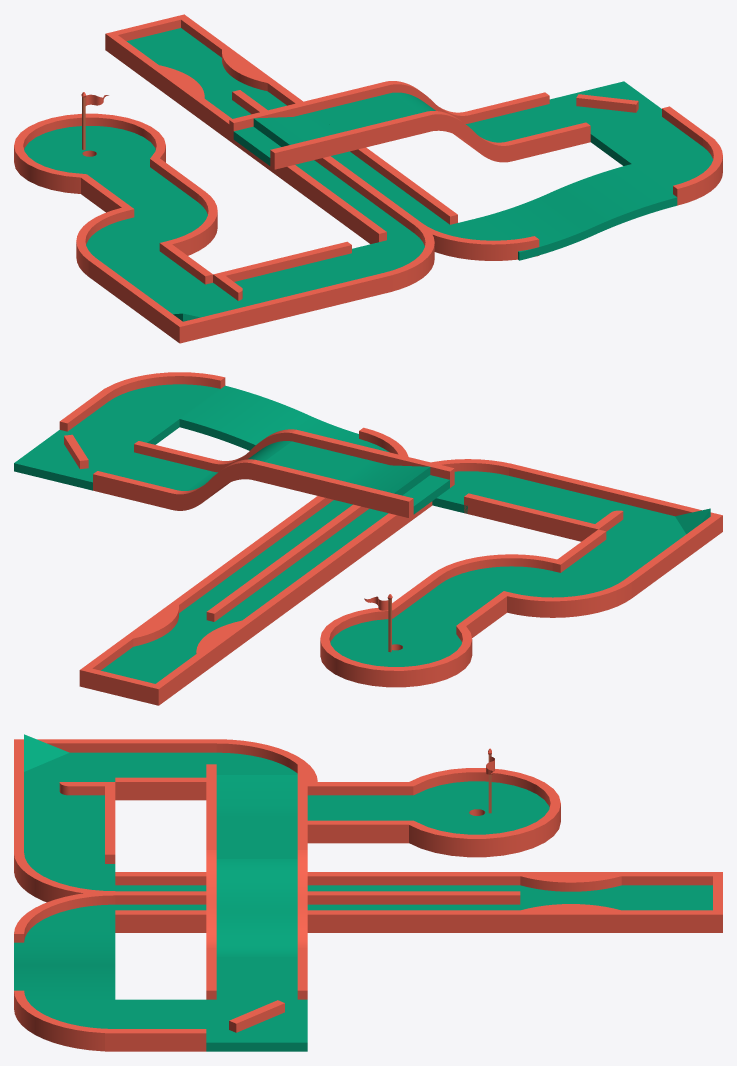
Rendered from Level11.fbx.
3 views of the same model, one above another, from view 1: azimuth 30°, elevation 25°; view 2: azimuth 150°, elevation 25°; view 3: azimuth 270°, elevation 25° (orthographic). The views are drawn at different scales.
Parts seen in each view (by area): view 1: straight (×5), bend_open (×5), straight_mid (×4), slope_center_smoothA_long, end_roundHoleLarge, straight_slope, end, corner_hill, straight_gap, straight_narrowRound, side, open_diagonal (+1 smaller); view 2: straight (×5), straight_mid (×4), bend_open (×5), end_roundHoleLarge, slope_center_smoothA_long, straight_slope, end, corner_hill, straight_gap, straight_narrowRound, open_diagonal, side (+1 smaller); view 3: straight (×5), straight_mid (×4), bend_open (×4), end_roundHoleLarge, slope_smoothC, slope_center_smoothA_long, end, straight_narrowRound, open_diagonal, side, corner_hill, straight_slope (+1 smaller).
Part boxes in pixels (x1,y1,x2,y2): straight (×5): [81, 81, 590, 310]; bend_open (×5): [76, 137, 722, 291]; straight_mid (×4): [196, 81, 457, 244]; slope_center_smoothA_long: [474, 164, 677, 260]; end_roundHoleLarge: [14, 113, 165, 193]; straight_slope: [229, 100, 353, 169]; end: [105, 14, 229, 83]; corner_hill: [134, 283, 258, 343]; straight_gap: [213, 255, 336, 323]; straight_narrowRound: [151, 48, 275, 116]; side: [590, 106, 714, 167]; open_diagonal: [549, 81, 661, 133]; straight (×5): [93, 429, 677, 637]; straight_mid (×4): [171, 496, 432, 638]; bend_open (×5): [101, 372, 631, 617]; end_roundHoleLarge: [320, 608, 472, 687]; slope_center_smoothA_long: [179, 385, 376, 450]; straight_slope: [330, 449, 454, 517]; end: [79, 636, 204, 705]; corner_hill: [606, 496, 722, 564]; straight_gap: [519, 477, 643, 541]; straight_narrowRound: [126, 603, 249, 671]; open_diagonal: [14, 430, 133, 490]; side: [59, 388, 183, 447]; straight (×5): [14, 739, 408, 999]; straight_mid (×4): [115, 872, 520, 932]; bend_open (×4): [14, 739, 317, 1051]; end_roundHoleLarge: [409, 768, 560, 857]; slope_smoothC: [206, 850, 307, 956]; slope_center_smoothA_long: [14, 932, 115, 999]; end: [621, 872, 722, 932]; straight_narrowRound: [520, 872, 621, 932]; open_diagonal: [206, 999, 307, 1051]; side: [105, 999, 206, 1051]; corner_hill: [14, 734, 115, 791]; straight_slope: [206, 764, 307, 816].
Size of the model in its own units: 73 by 10 by 70.
